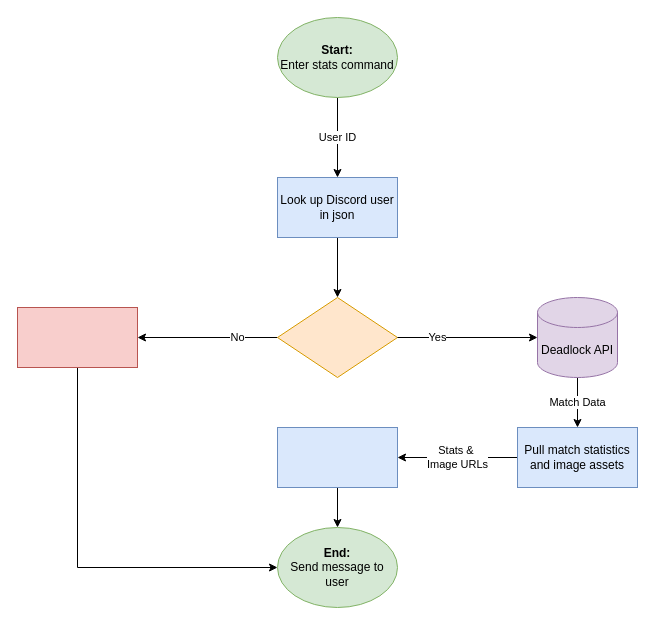
Some shapes in this 655 by 625 pixel diagram are drawn without their labels. Here are the shapes that lost their labels. From the top down, the centre of each, then its label:
At (77,337): "Prompt user to use linking command".
At (337,337): "Is the user linked to Steam?".
At (337,457): "Assemble & format embed".
